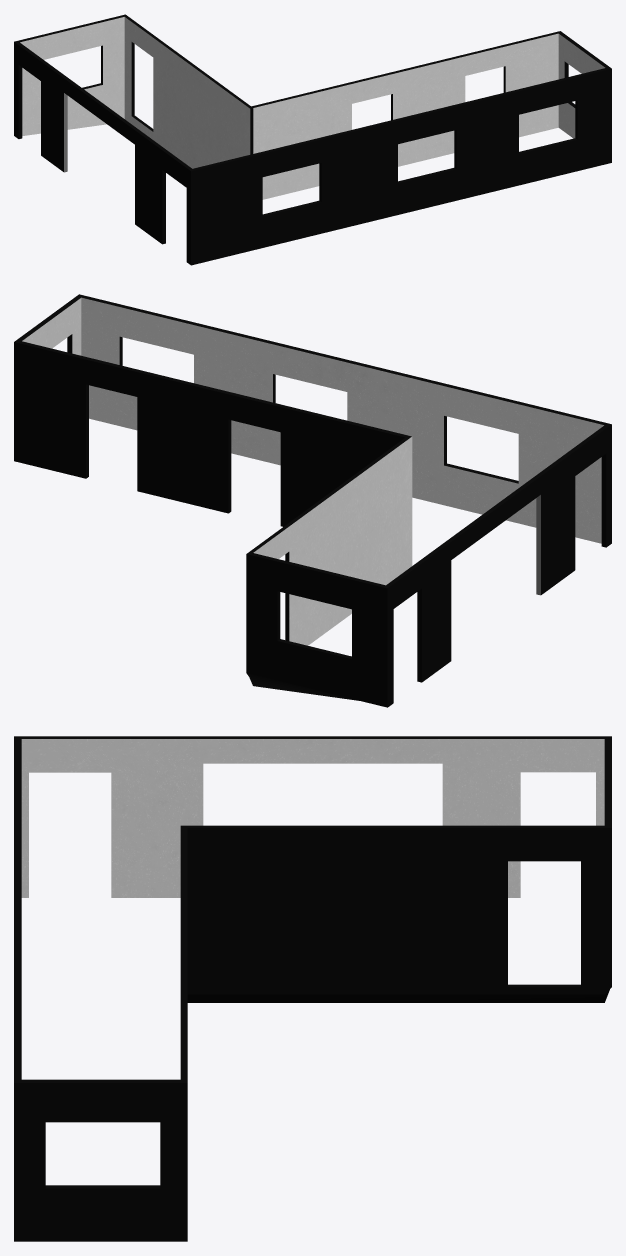
Rendered from CorridorWalls.obj.
3 renders of one model, top to bottom at view 1: azimuth 30°, elevation 25°; view 2: azimuth 150°, elevation 25°; view 3: azimuth 270°, elevation 25°, orthographic. The views are drawn at different scales.
Visible parts, largest first — view 1: CorridorWalls; view 2: CorridorWalls; view 3: CorridorWalls.
Boxes of the visible parts, box(x1,y1,x2,y2) form: CorridorWalls: box(14, 14, 611, 265); CorridorWalls: box(14, 294, 611, 707); CorridorWalls: box(14, 736, 611, 1241).
Size of the model in its own units: 1638 by 391 by 1194.
